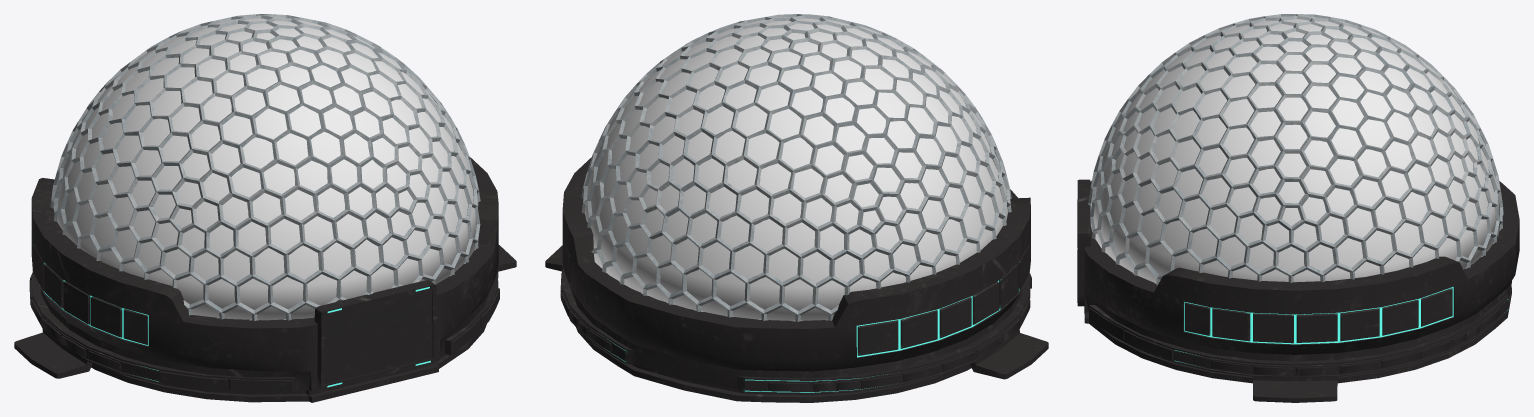
The model's file is Dome.fbx.
3 views of the same model, side by side, from view 1: azimuth 30°, elevation 25°; view 2: azimuth 150°, elevation 25°; view 3: azimuth 270°, elevation 25° (orthographic). The views are drawn at different scales.
Visible parts, largest first — view 1: Mirror, Base, Hexogone; view 2: Mirror, Base, Hexogone; view 3: Mirror, Base, Hexogone.
Boxes of the visible parts, <box> form: Mirror: <box>53,17,478,320</box>; Base: <box>14,157,516,402</box>; Hexogone: <box>50,14,480,321</box>; Mirror: <box>585,17,1007,320</box>; Base: <box>545,157,1048,402</box>; Hexogone: <box>581,14,1011,321</box>; Mirror: <box>1091,16,1499,283</box>; Base: <box>1077,179,1519,402</box>; Hexogone: <box>1088,14,1503,285</box>.
Size of the model in its own units: 363 by 202 by 310.
2 materials, 2 textured.
